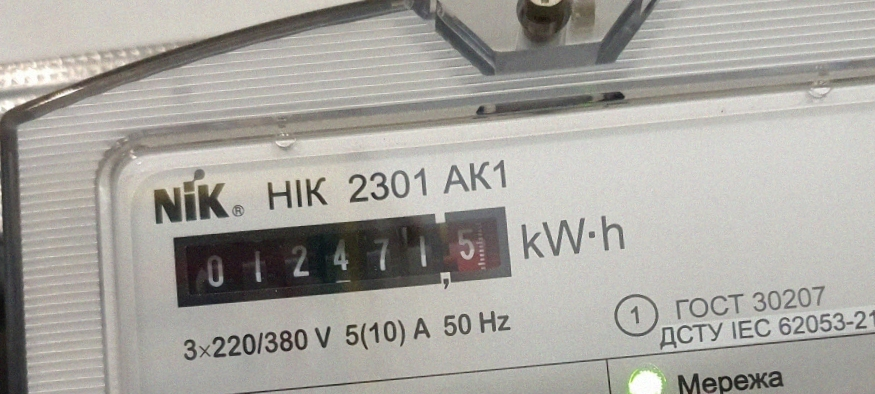0: (201, 250, 227, 288)
1: (250, 247, 264, 283), (415, 231, 428, 268)
2: (288, 241, 311, 278)
4: (329, 235, 350, 272)
5: (454, 222, 478, 262)
7: (369, 233, 392, 273)
screen: (160, 195, 524, 316)
